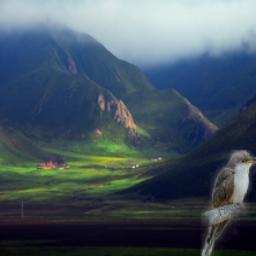Cuckoo: (199, 151, 256, 256)
